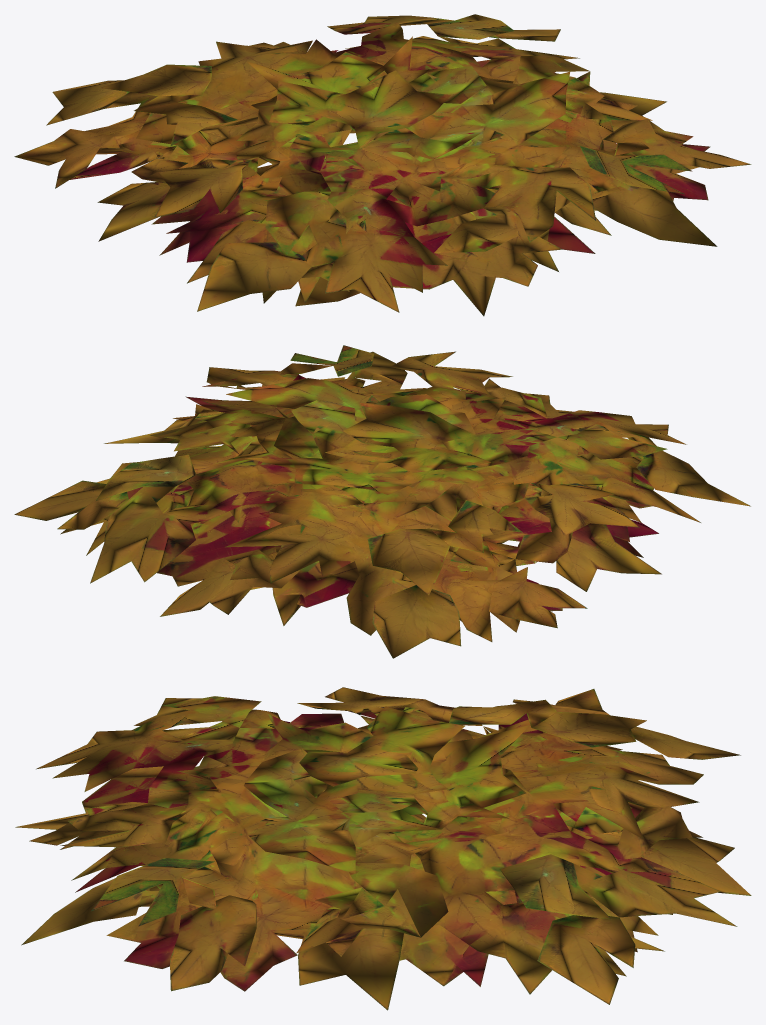
3 renders of one model, top to bottom at view 1: azimuth 30°, elevation 25°; view 2: azimuth 150°, elevation 25°; view 3: azimuth 270°, elevation 25°, orthographic. The views are drawn at different scales.
Visible parts, largest first — view 1: Mesh_0; view 2: Mesh_0; view 3: Mesh_0.
Part boxes in pixels (<box>): Mesh_0: <box>14,14,751,316</box>; Mesh_0: <box>14,345,750,658</box>; Mesh_0: <box>15,687,751,1010</box>.
Size of the model in its own units: 1.91 by 0.3054 by 1.91.
1 material, 1 textured.
